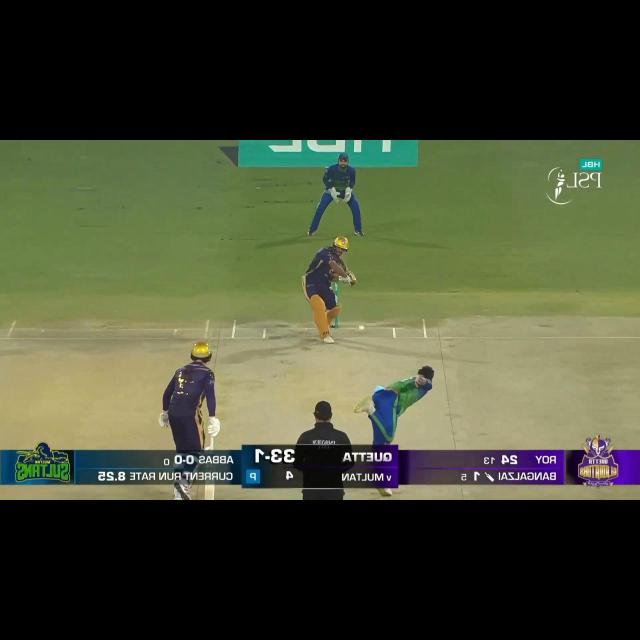bat: (200, 482, 218, 500), (338, 255, 348, 272)
toe: (201, 490, 216, 500)
